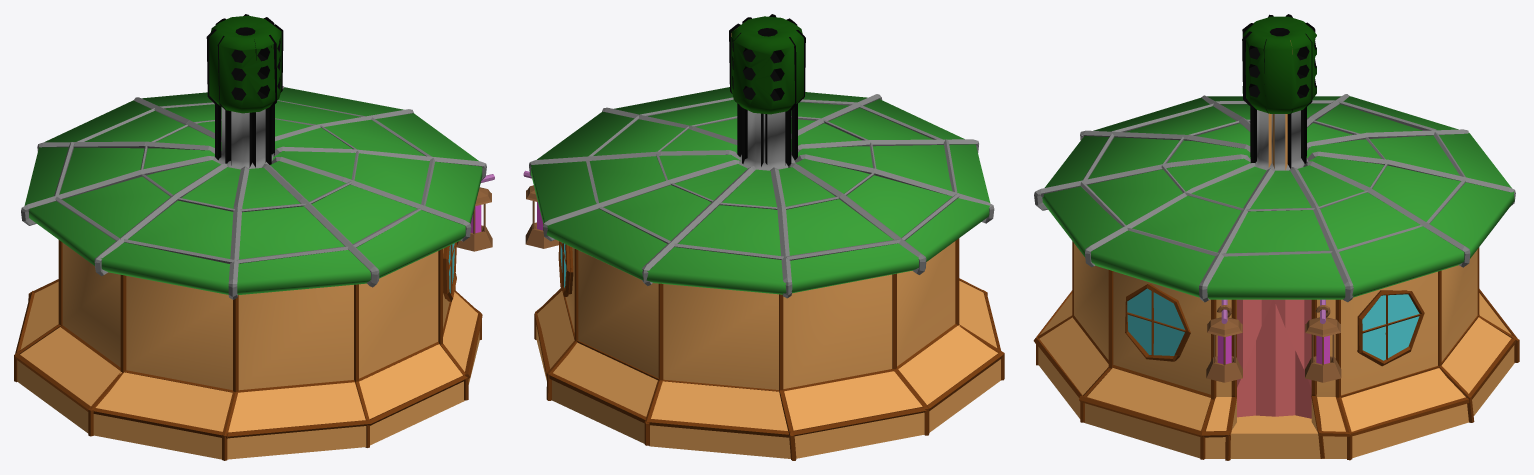
The model's file is Forge_ideal_first_level.fbx.
3 renders of one model, left to right at view 1: azimuth 30°, elevation 25°; view 2: azimuth 150°, elevation 25°; view 3: azimuth 270°, elevation 25°, orthographic.
Parts seen in each view (by area): view 1: Forge, Cylinder.001; view 2: Forge, Cylinder.001; view 3: Forge, Cylinder.001, Plane.003.
Part boxes in pixels (box(x1,y1,x2,y2)): Forge: box(14, 14, 486, 460); Cylinder.001: box(443, 174, 494, 301); Forge: box(529, 14, 1004, 460); Cylinder.001: box(523, 170, 573, 296); Forge: box(1033, 14, 1519, 460); Cylinder.001: box(1125, 284, 1424, 382); Plane.003: box(1237, 299, 1311, 418).
Size of the model in its own units: 3168 by 2423 by 3171.
